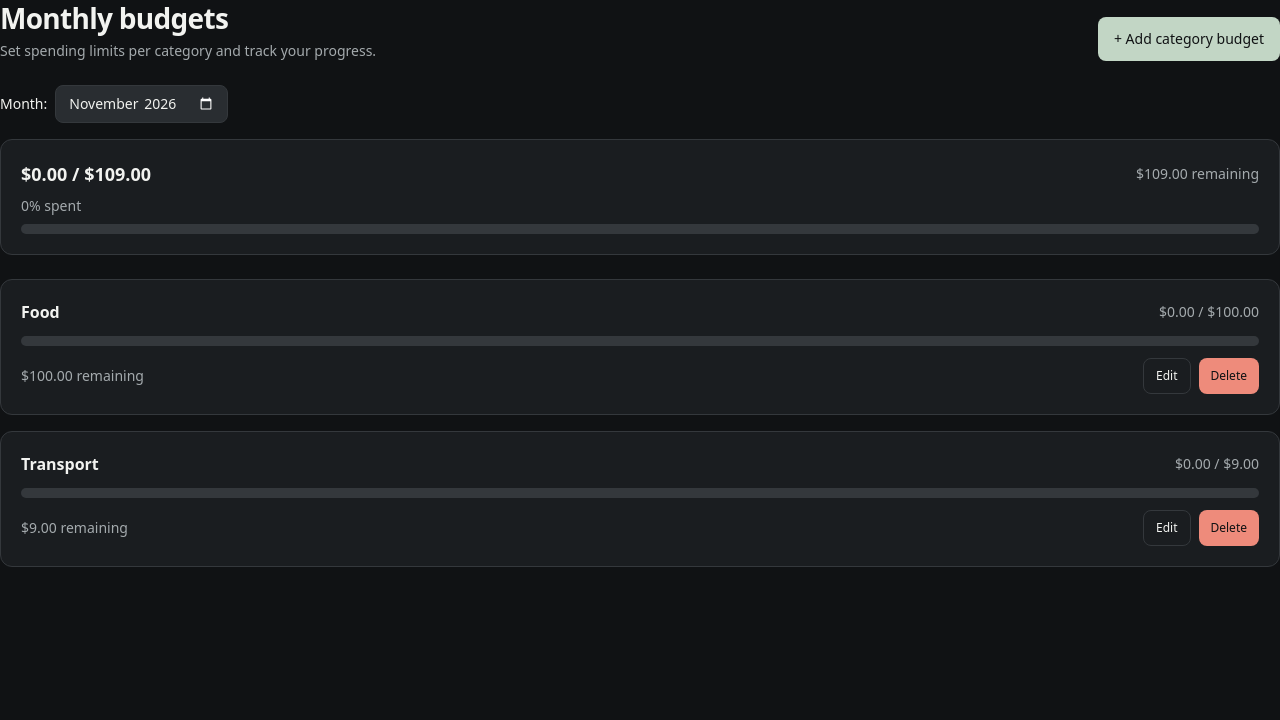
Scenario: editing records › switches the open budgets form to the selected record and saves the right amount
Later steps or results of the test are not shown.
Click the button "Edit" in the row of "$100.00 remaining" at (1167, 376), box [1143,358,1190,394]
(page scrolled)
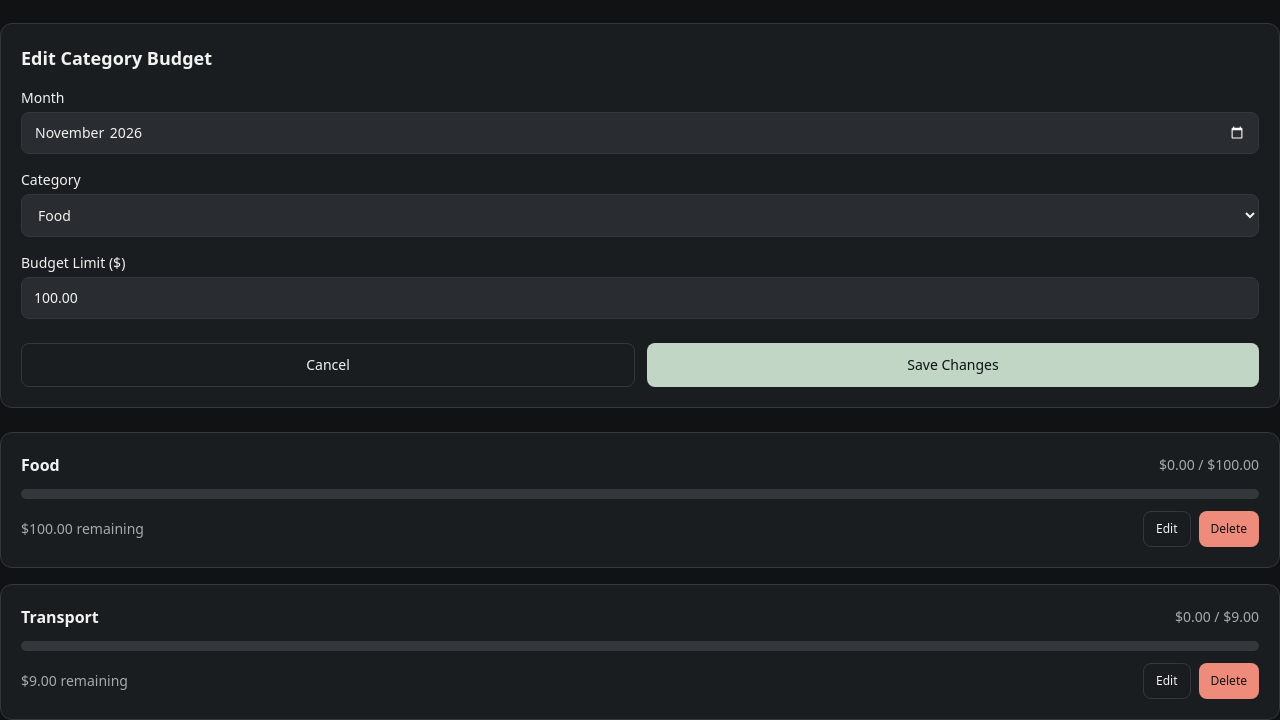
Check: the number field holds "100.00", box [21,277,1259,319]
